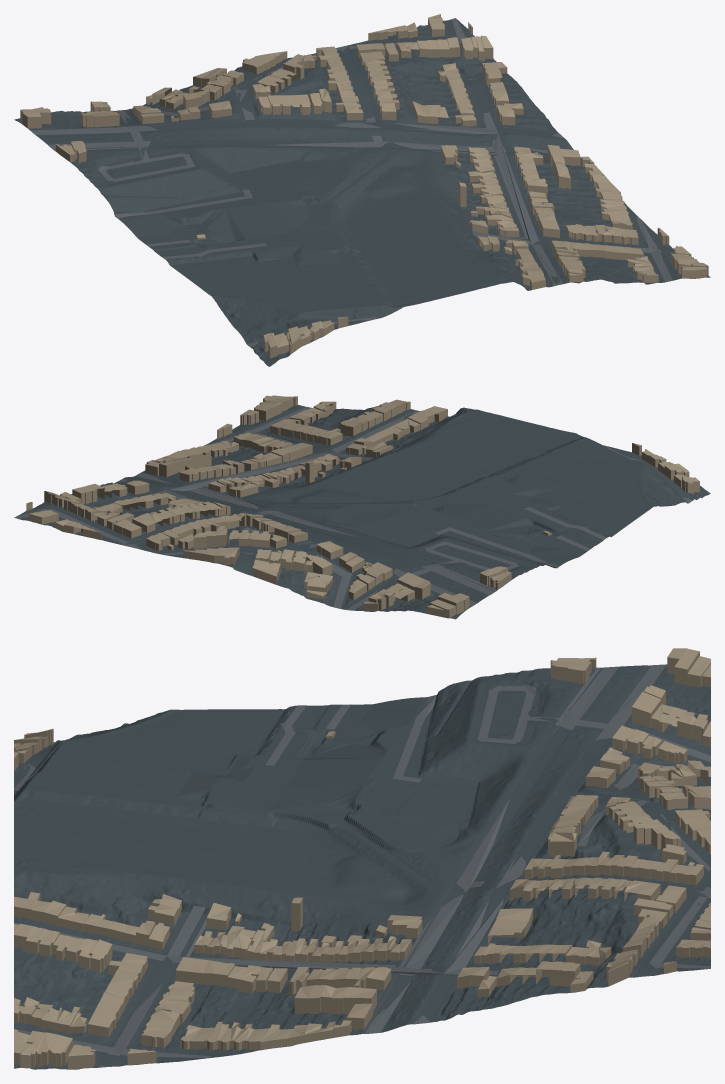
The model's file is epsg26910-1438-10872.lod0.glb.
The picture shows the model from 3 angles, top to bottom: view 1: azimuth 30°, elevation 25°; view 2: azimuth 150°, elevation 25°; view 3: azimuth 270°, elevation 25°; orthographic projection. The views are drawn at different scales.
Visible parts, largest first — view 1: epsg26910-1438-10872-lod0; view 2: epsg26910-1438-10872-lod0; view 3: epsg26910-1438-10872-lod0.
Boxes of the visible parts, x1,y1,x2,y2 form: epsg26910-1438-10872-lod0: (14,14,710,366); epsg26910-1438-10872-lod0: (14,395,710,619); epsg26910-1438-10872-lod0: (14,648,710,1069).
Size of the model in its own units: 384 by 77.24 by 384.
